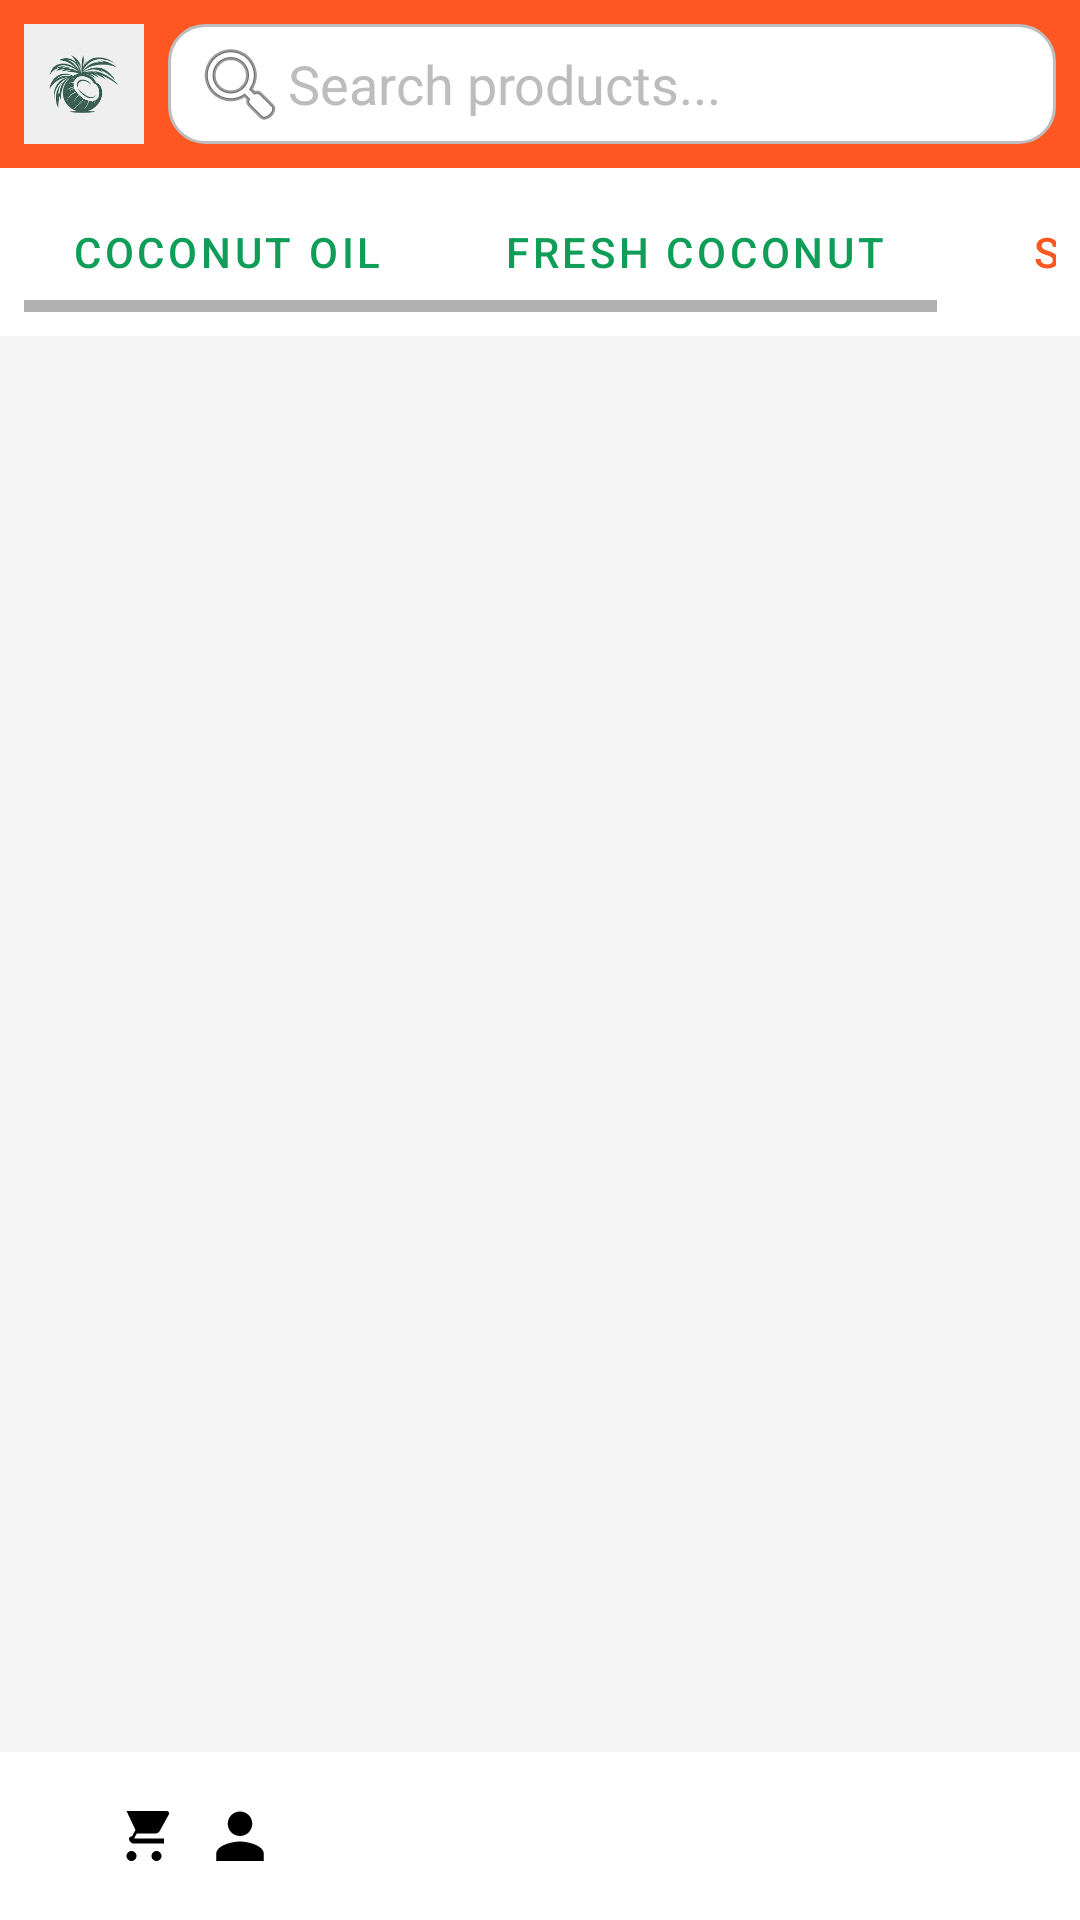

Screen size 1080 × 1920. Icon name, then its box in pixels as (x1, y1, x2, y2):
Cart: (126, 1811, 170, 1861)
Profile: (216, 1811, 264, 1861)
